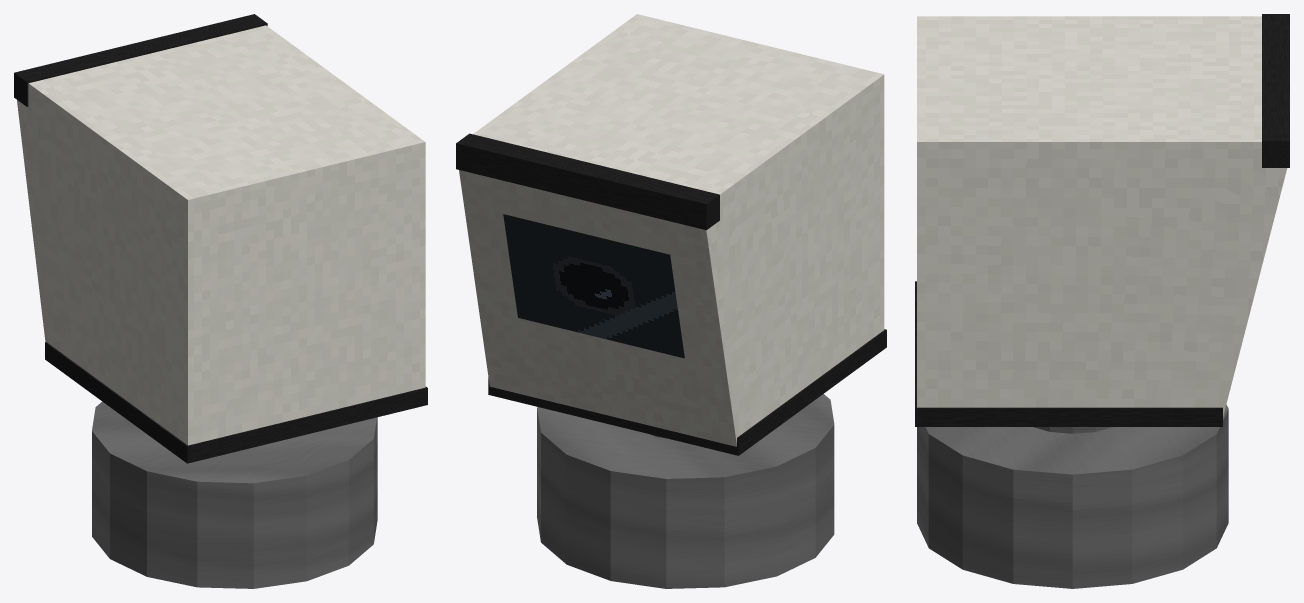
Rendered from red_light_camera_top.obj.
3 views of the same model, side by side, from view 1: azimuth 30°, elevation 25°; view 2: azimuth 150°, elevation 25°; view 3: azimuth 270°, elevation 25° (orthographic). The views are drawn at different scales.
Visible parts, largest first — view 1: red_light_camera_top; view 2: red_light_camera_top; view 3: red_light_camera_top.
Boxes of the visible parts, left/top/right/bottom form: red_light_camera_top: left=14, top=14, right=427, bottom=588; red_light_camera_top: left=456, top=14, right=886, bottom=588; red_light_camera_top: left=915, top=14, right=1289, bottom=588.
Size of the model in its own units: 0.84 by 1.33 by 1.01.
